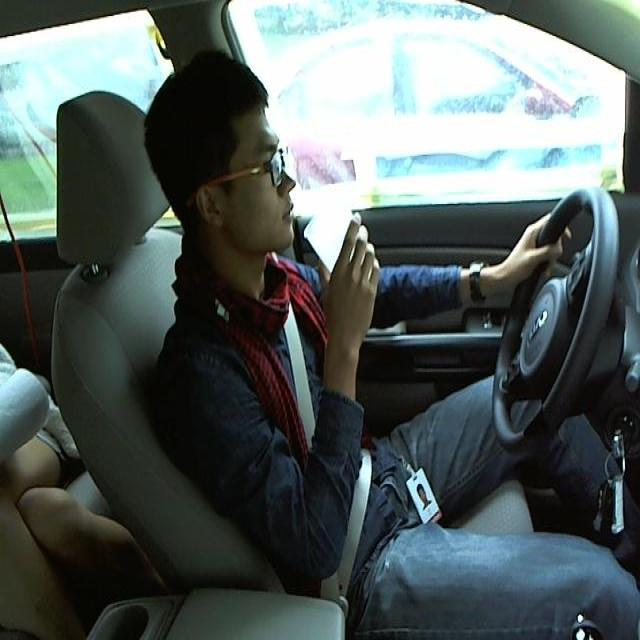Seatbelt: (302, 199, 379, 297)
